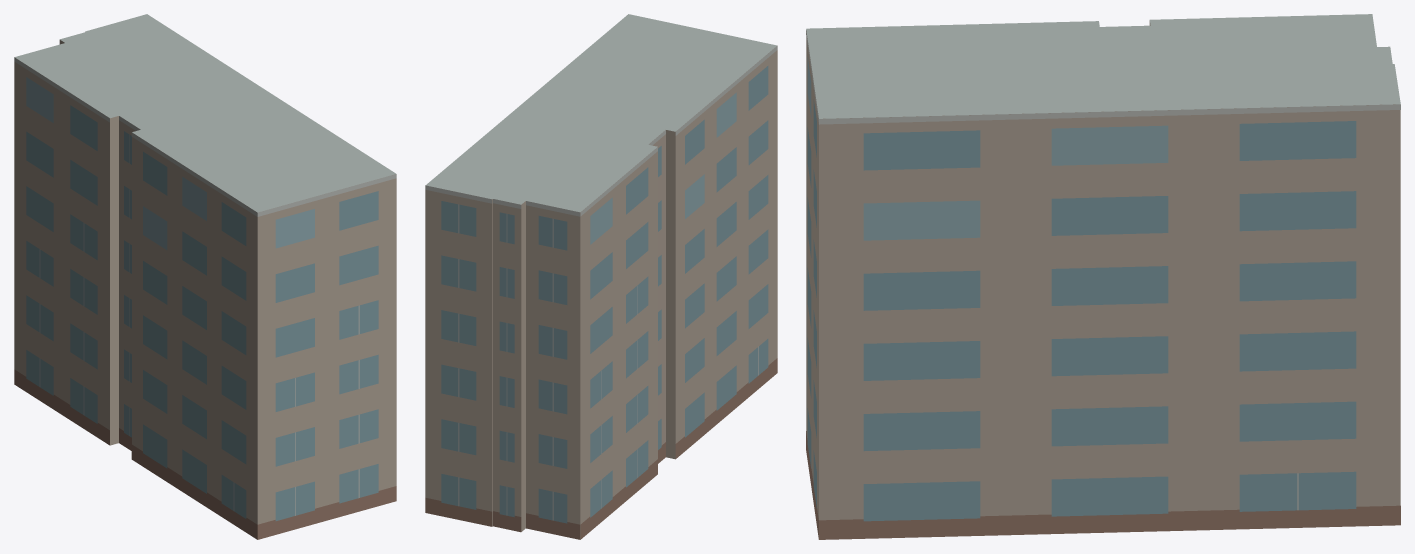
File: survey-upis-32977719.glb
3 views of the same model, side by side, from view 1: azimuth 30°, elevation 25°; view 2: azimuth 150°, elevation 25°; view 3: azimuth 270°, elevation 25° (orthographic). The views are drawn at different scales.
Visible parts, largest first — view 1: survey-upis-32977719.tmp; view 2: survey-upis-32977719.tmp; view 3: survey-upis-32977719.tmp.
Part boxes in pixels (x1=…): survey-upis-32977719.tmp: x1=14, y1=14, x2=396, y2=539; survey-upis-32977719.tmp: x1=425, y1=14, x2=777, y2=539; survey-upis-32977719.tmp: x1=806, y1=14, x2=1400, y2=539.
Bounding box in the file's own units: 9.79 × 18.3 × 23.44.
